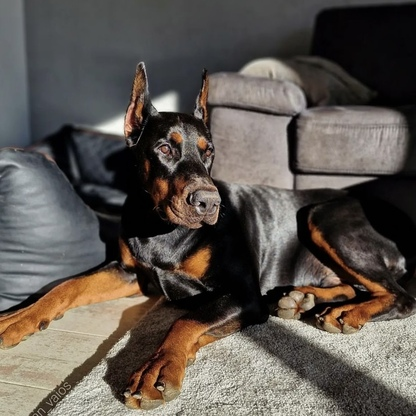doberman: (4, 59, 413, 410)
